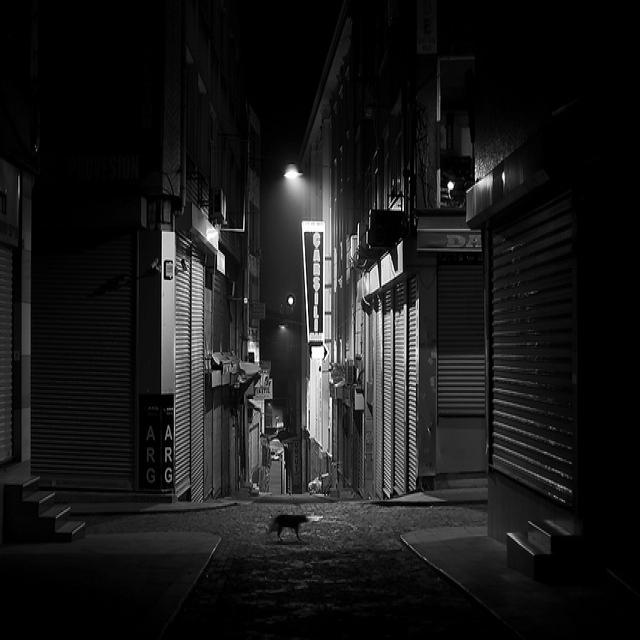Cat: (255, 500, 318, 563)
